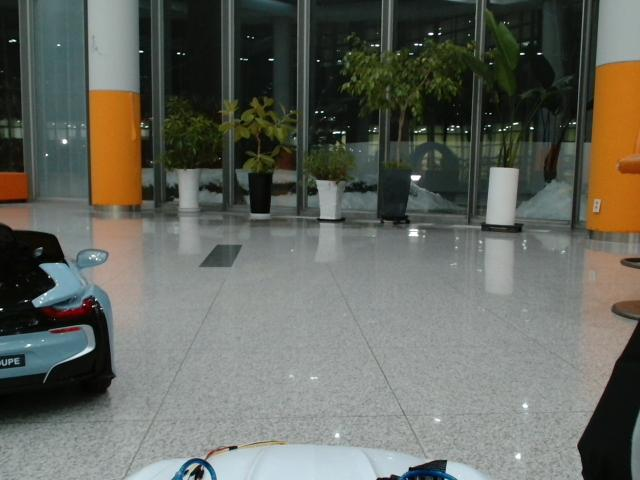car: (1, 223, 113, 419)
